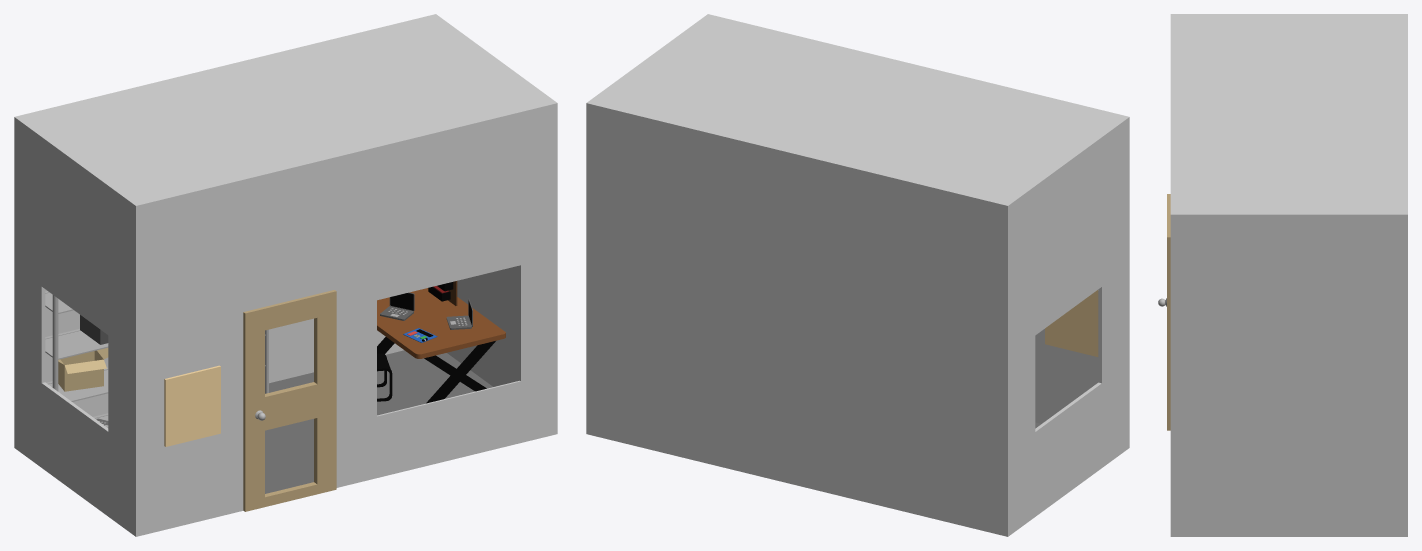
The model's file is shop.glb.
3 renders of one model, left to right at view 1: azimuth 30°, elevation 25°; view 2: azimuth 150°, elevation 25°; view 3: azimuth 270°, elevation 25°, orthographic. The views are drawn at different scales.
Visible parts, largest first — view 1: shop, door, floor, desk, board, shelf1, box.002, computer2; view 2: shop, board; view 3: shop, door.
Part boxes in pixels (x1,y1,x2,y2): shop: (14, 14, 557, 536); door: (243, 290, 336, 511); floor: (265, 350, 492, 493); desk: (377, 281, 505, 403); board: (164, 365, 220, 446); shelf1: (45, 291, 108, 420); box.002: (58, 348, 108, 391); computer2: (380, 292, 414, 320); shop: (586, 14, 1129, 536); board: (1045, 290, 1098, 356); shop: (1170, 14, 1407, 536); door: (1158, 194, 1170, 430).
Bounding box in the file's own units: 40 × 30 × 21.05.
